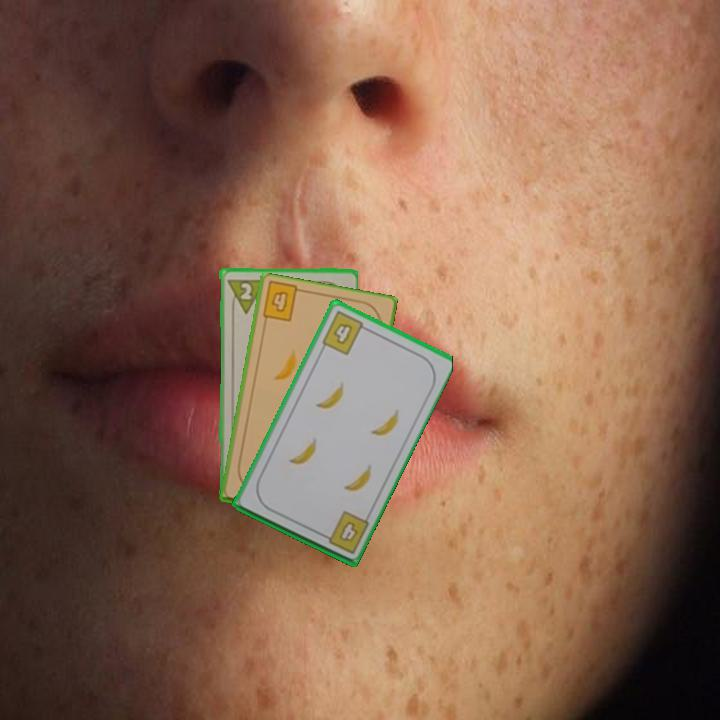2p: (223, 275, 267, 316)
4b: (318, 307, 371, 358), (317, 507, 371, 557), (267, 287, 291, 315)
